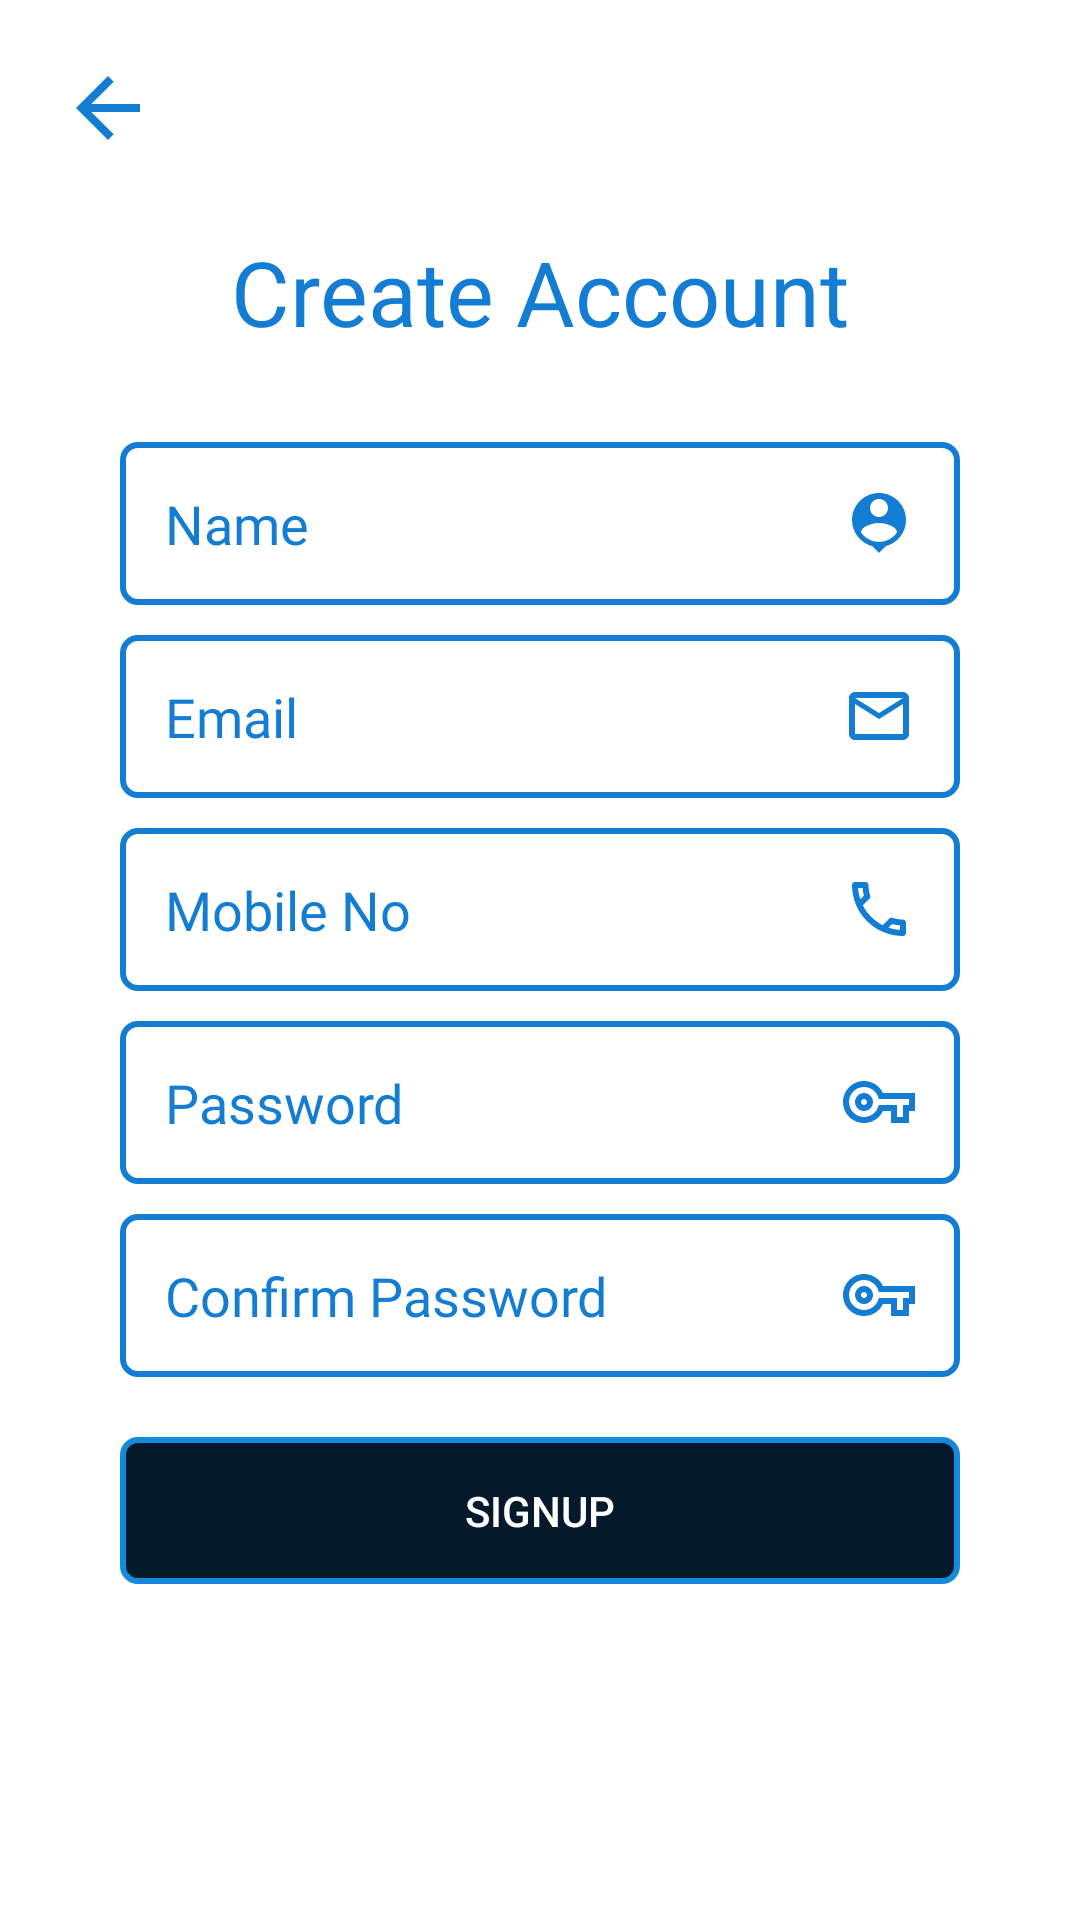

Where to tap for icons on this 1080 x 1920 app screen, as [x,y]:
back: [108,108]
